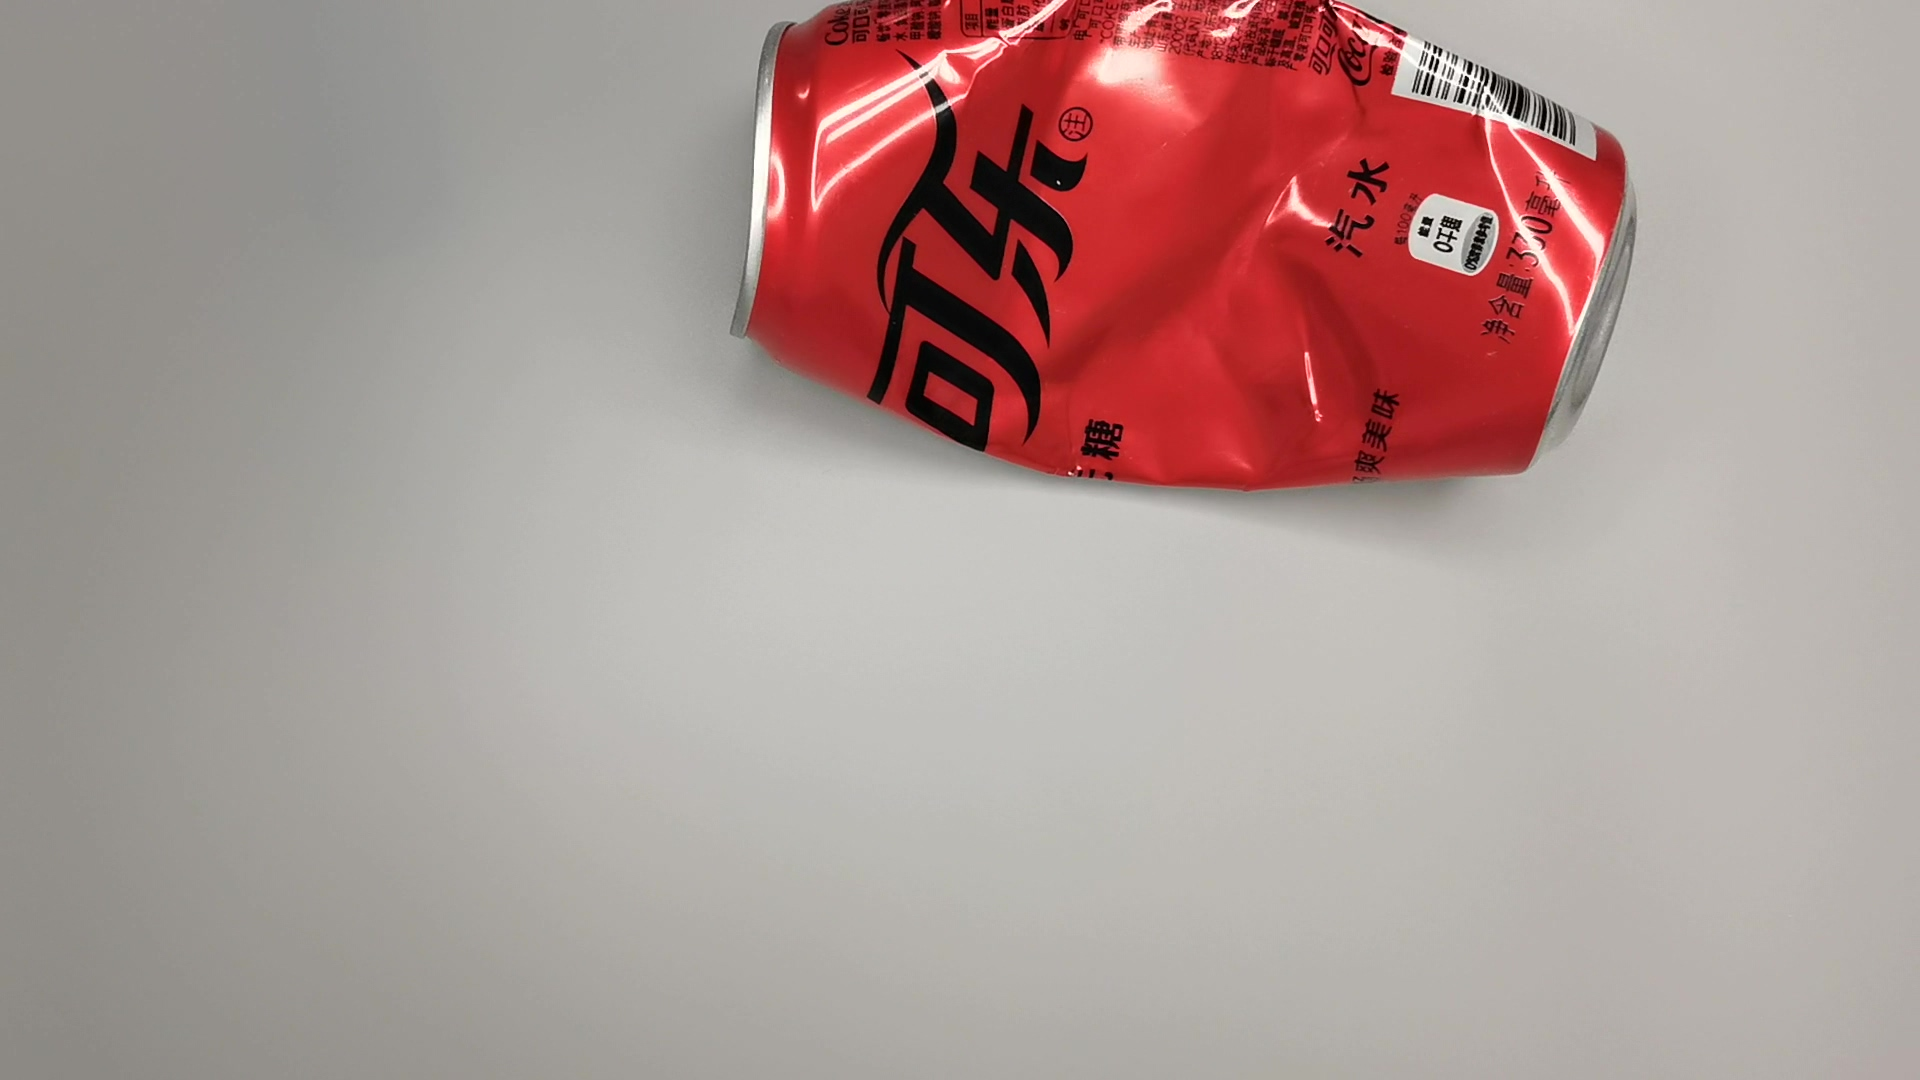can: (723, 1, 1660, 495)
